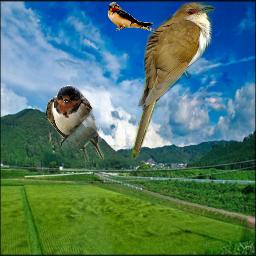Cuckoo: (130, 2, 215, 160)
Swallow: (46, 85, 104, 162), (107, 2, 159, 34)
